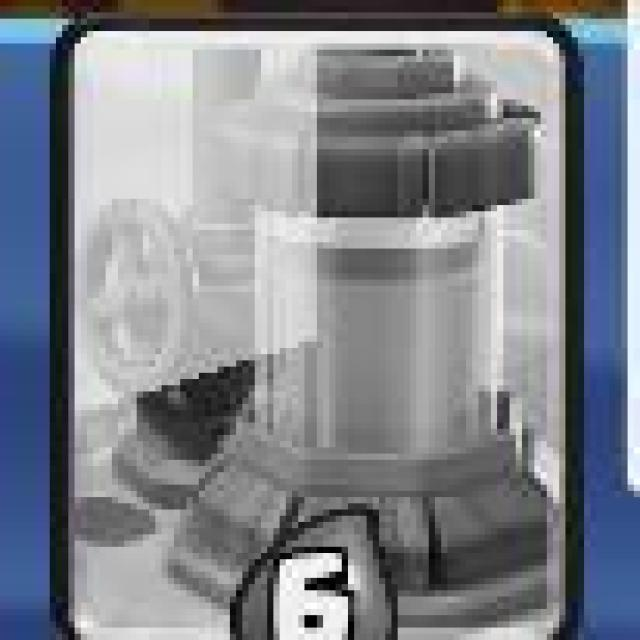Elixir_Pump: (45, 10, 588, 640)
